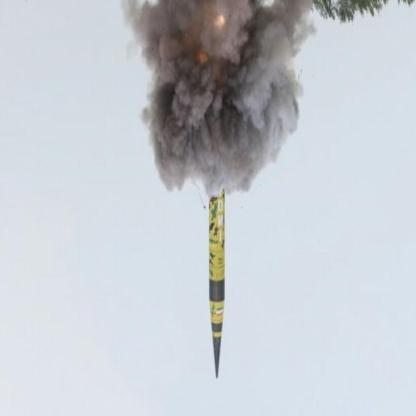MIL_TBM: (205, 189, 229, 382)
